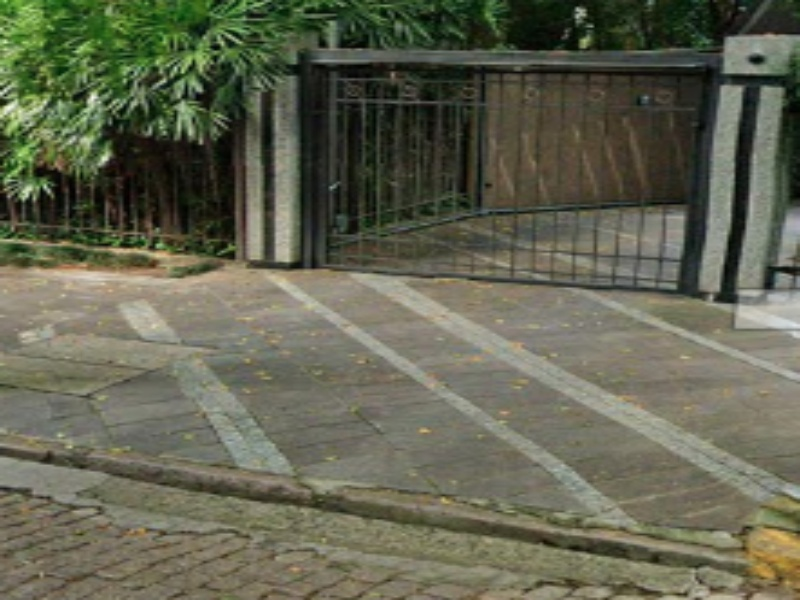g29: (11, 379, 673, 600)
